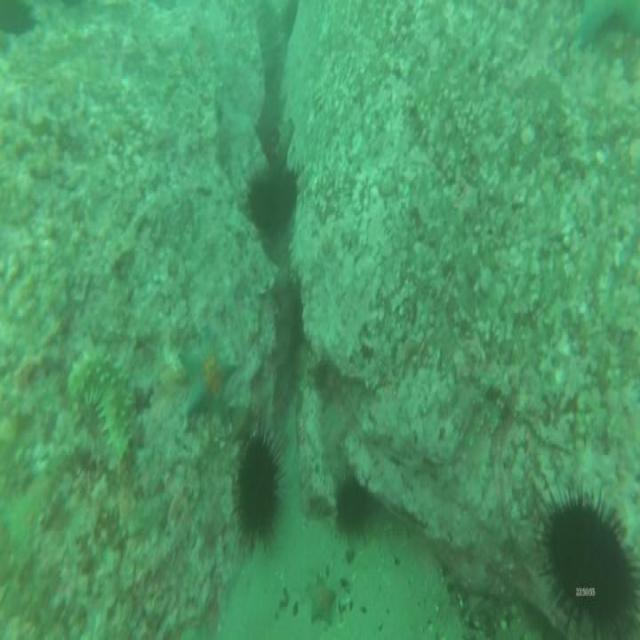echinus: (531, 469, 640, 639), (231, 419, 285, 551), (330, 466, 372, 542), (244, 168, 280, 240), (273, 164, 301, 229), (0, 0, 37, 39)
holothurian: (67, 344, 141, 476)
starfish: (177, 322, 240, 433), (569, 0, 640, 55), (305, 574, 338, 629)
